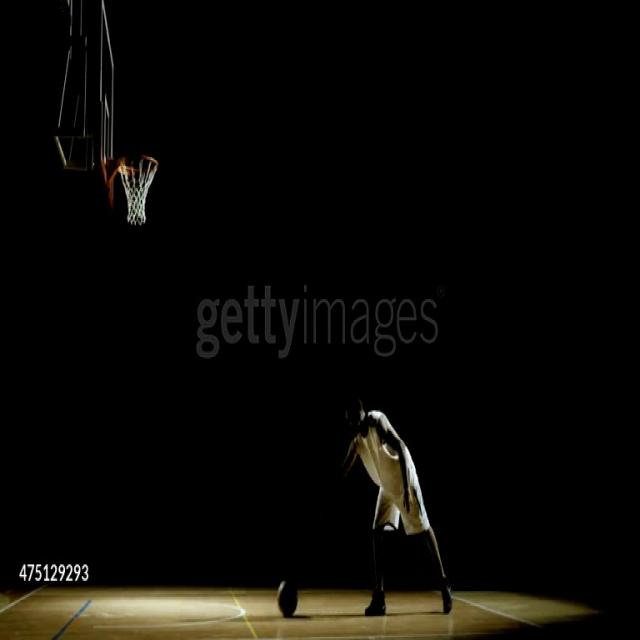ball: (276, 578, 298, 619)
